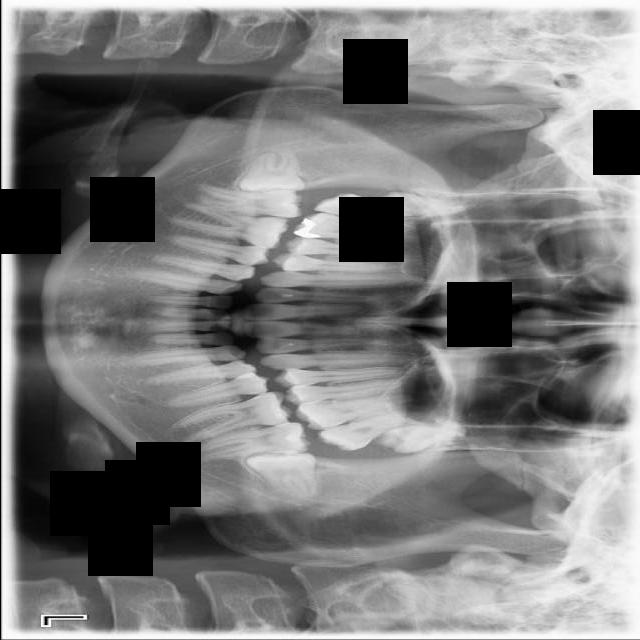3M ESPE Implant: (370, 189, 480, 221)
52: (293, 212, 342, 238)
73: (111, 582, 125, 586)
BioHorizons Implant: (313, 399, 431, 461)
BioLife Implant: (374, 424, 467, 455)
Biomet 3i Implant: (244, 446, 319, 504)
Blue Sky Bio Implant: (194, 420, 312, 463)
Caries: (311, 183, 417, 242)
Implant: (194, 182, 304, 219)
Keystone Dental Implant: (234, 149, 304, 199)
